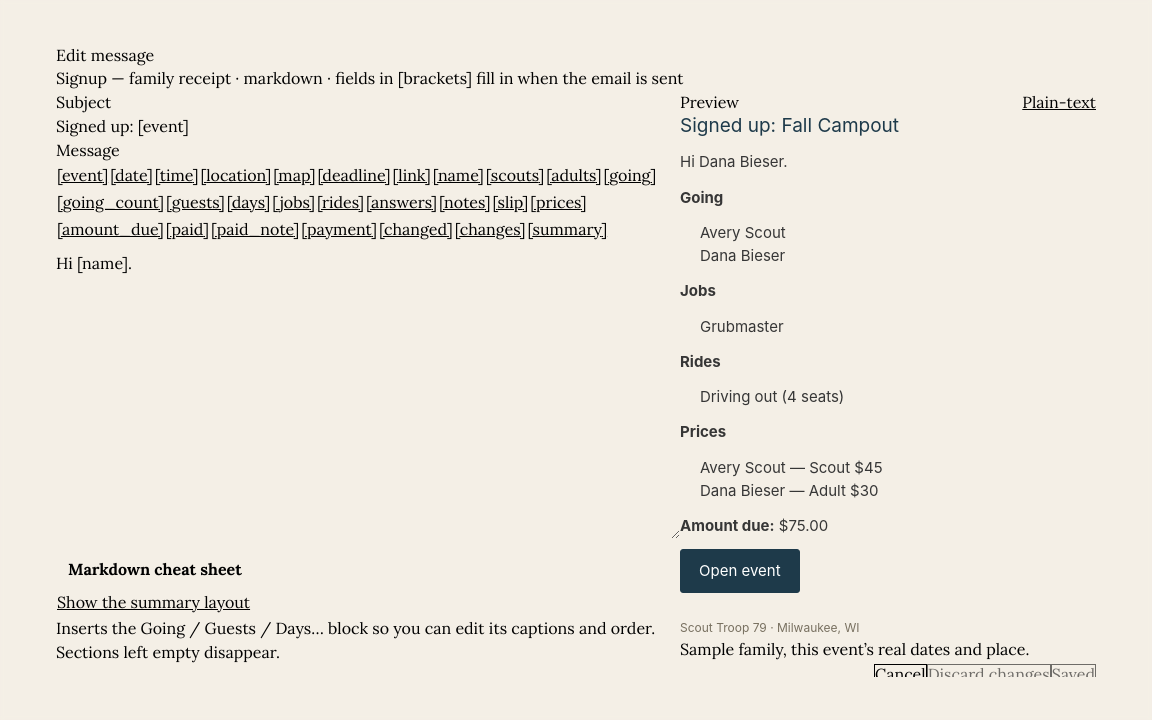
Test: MessageEditorDialog › MessageEditor_InsertsTokenInlineAtCursor_AndPreviewUpdatesLive
What coordinates should you click on to do the following:
click the button "[event]"
I would click on:
 (83, 175)
Its box is [56,162,109,189].
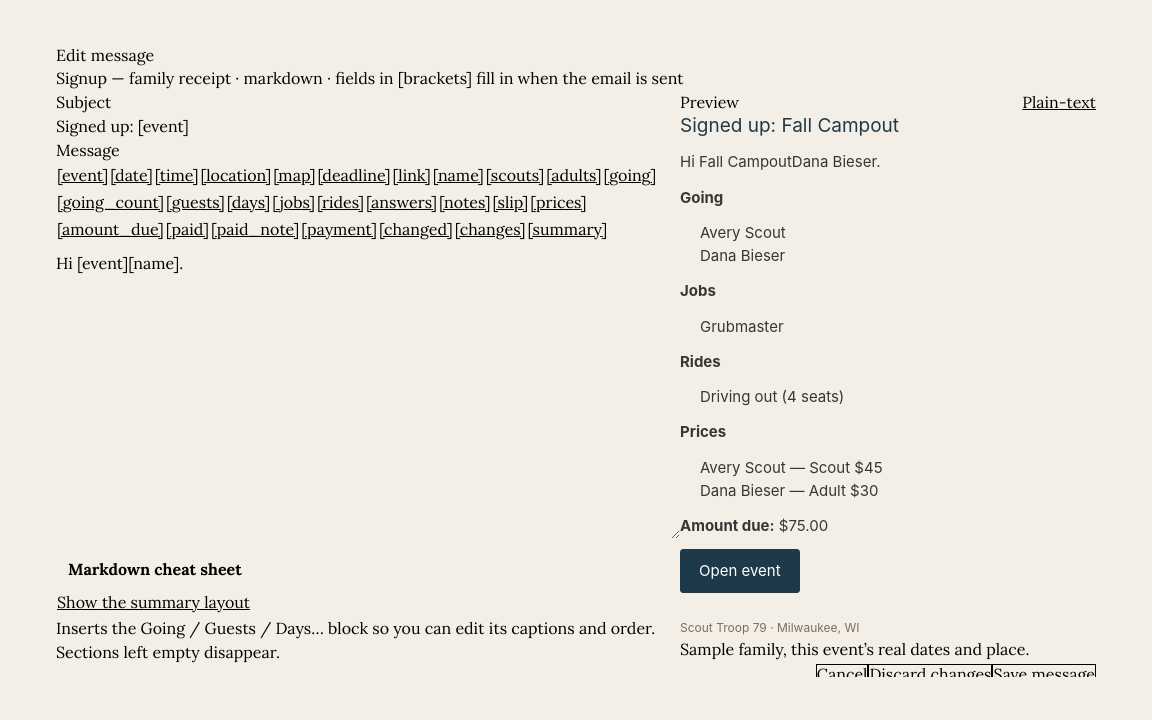
Check: the text box labelled "Message" holds "Hi [event][name].", box [56,251,680,539]
